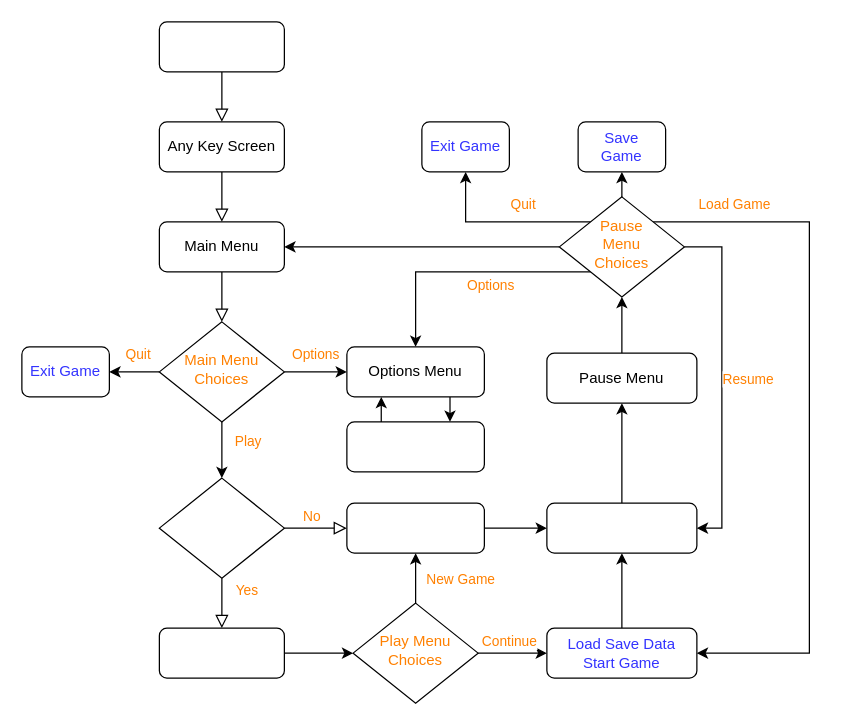
The diagram is 841 pixels wide and 725 high, and some of its shapes have lost their labels. Here are the shapes that lost their labels. From the top down, the box of each, then its label:
(158, 21, 284, 72): Application Start
(346, 421, 484, 472): Keybind Menu
(158, 477, 284, 578): Save File Found?
(346, 502, 484, 553): Start New Game
(546, 502, 697, 553): In Game
(158, 627, 284, 678): Play Menu
